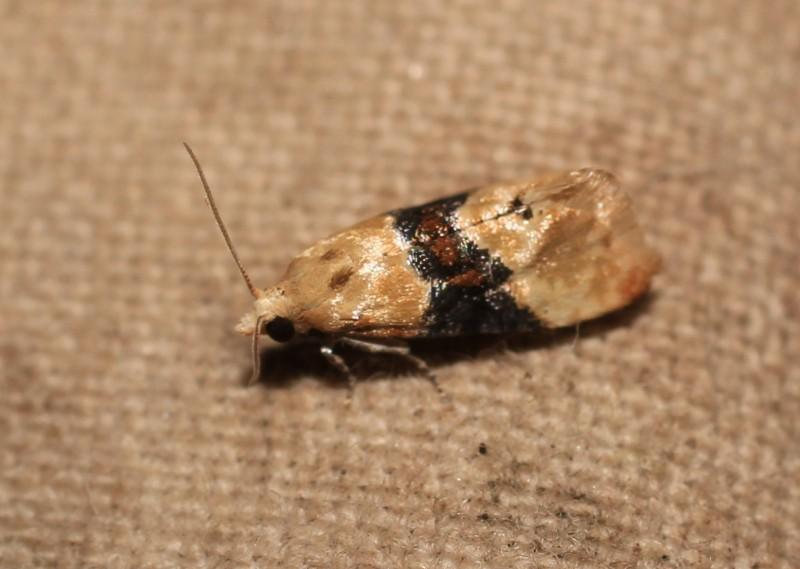Eupoecilia Ambiguella: (178, 138, 664, 399)
